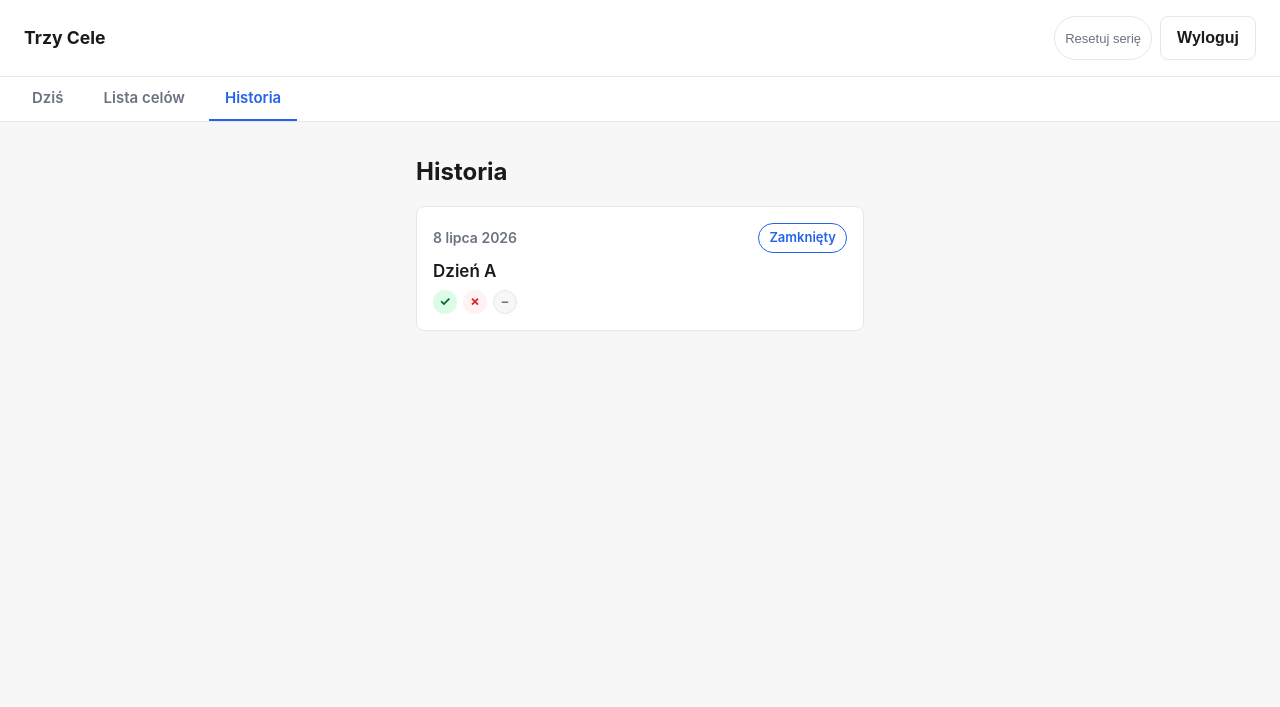
Test: HistoryPage (FE-10) › nawigacja: klik w wiersz → trasa /historia/:date renderuje szczegół z notatkami
Expected: the text "Dzień A" is shown, [433,260,496,280]
Click the link "Dzień A": {"x": 475, "y": 238} [416,206,864,331]
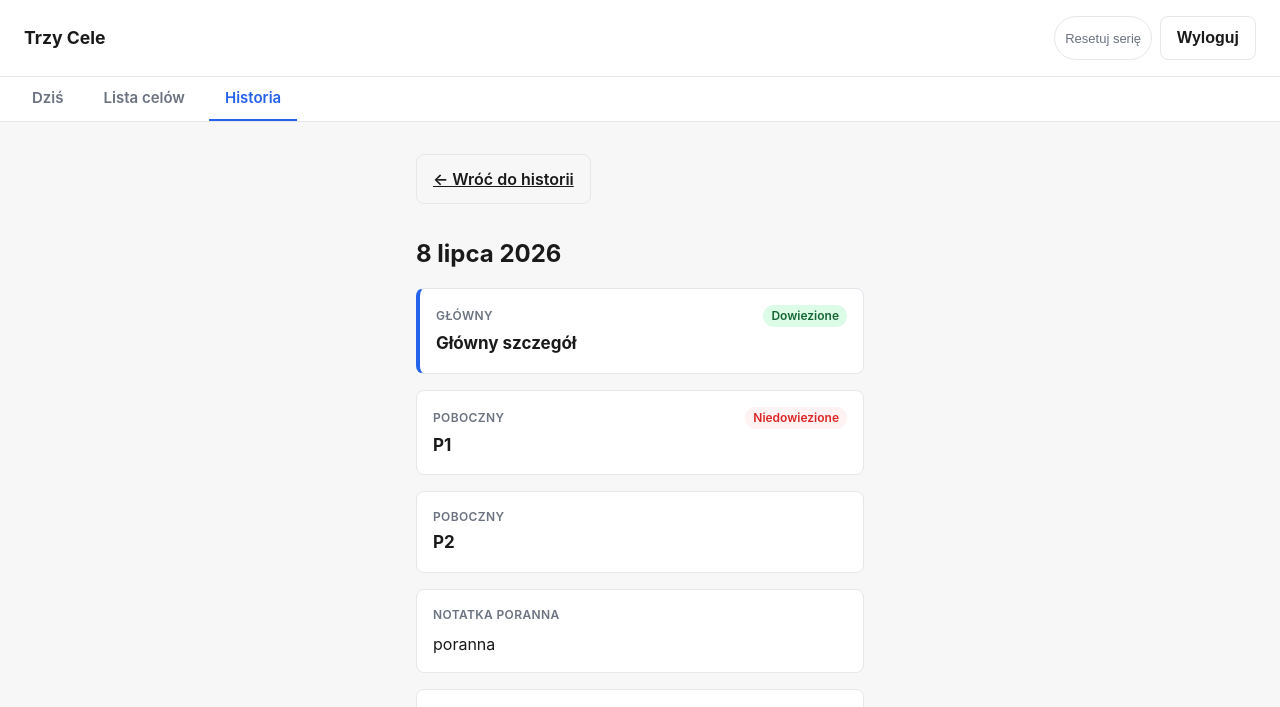
Expected: the heading "Główny szczegół" is shown, [436,333,576,353]
Expected: the text "poranna" is shown, [433,634,495,654]
Click the link "← Wróć do historii": {"x": 503, "y": 179} [416,154,591,204]
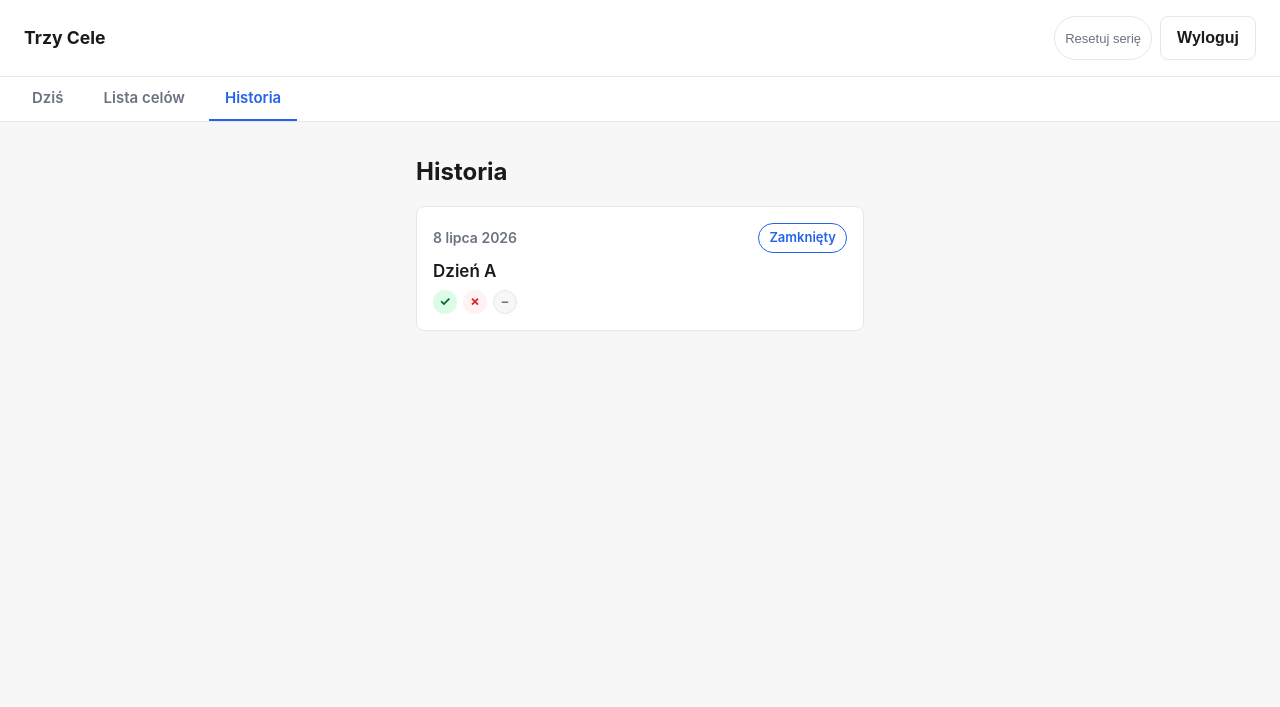
Expected: the text "Dzień A" is shown, [433,260,496,280]
